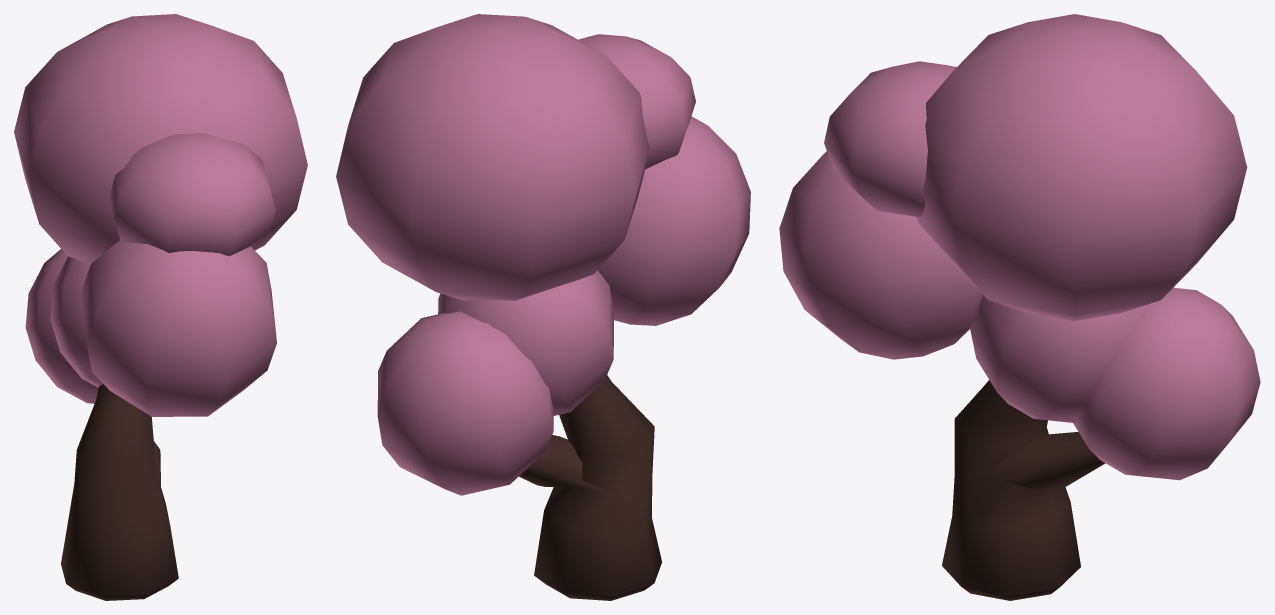
File: tree-48_col.fbx
3 renders of one model, left to right at view 1: azimuth 30°, elevation 25°; view 2: azimuth 150°, elevation 25°; view 3: azimuth 270°, elevation 25°, orthographic. The views are drawn at different scales.
Parts seen in each view (by area): view 1: tree-48.col; view 2: tree-48.col; view 3: tree-48.col.
Part boxes in pixels (<box>): tree-48.col: <box>14,14,307,600</box>; tree-48.col: <box>336,14,750,600</box>; tree-48.col: <box>779,14,1260,600</box>.
Bounding box in the file's own units: 0.7727 × 1.35 × 1.01.
1 material, 1 textured.
